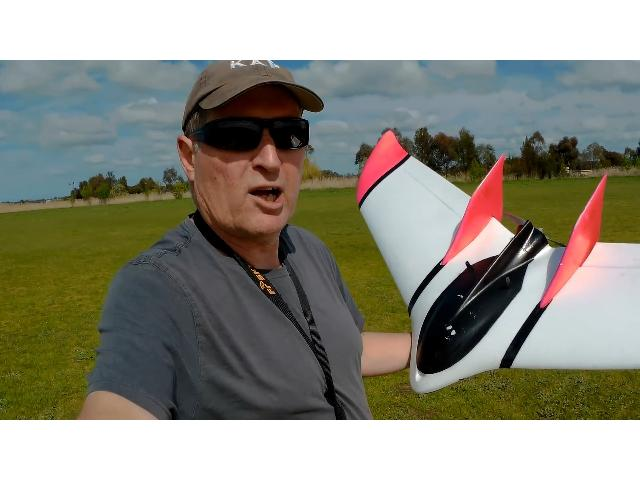Anti-Drone: (350, 122, 640, 420)
